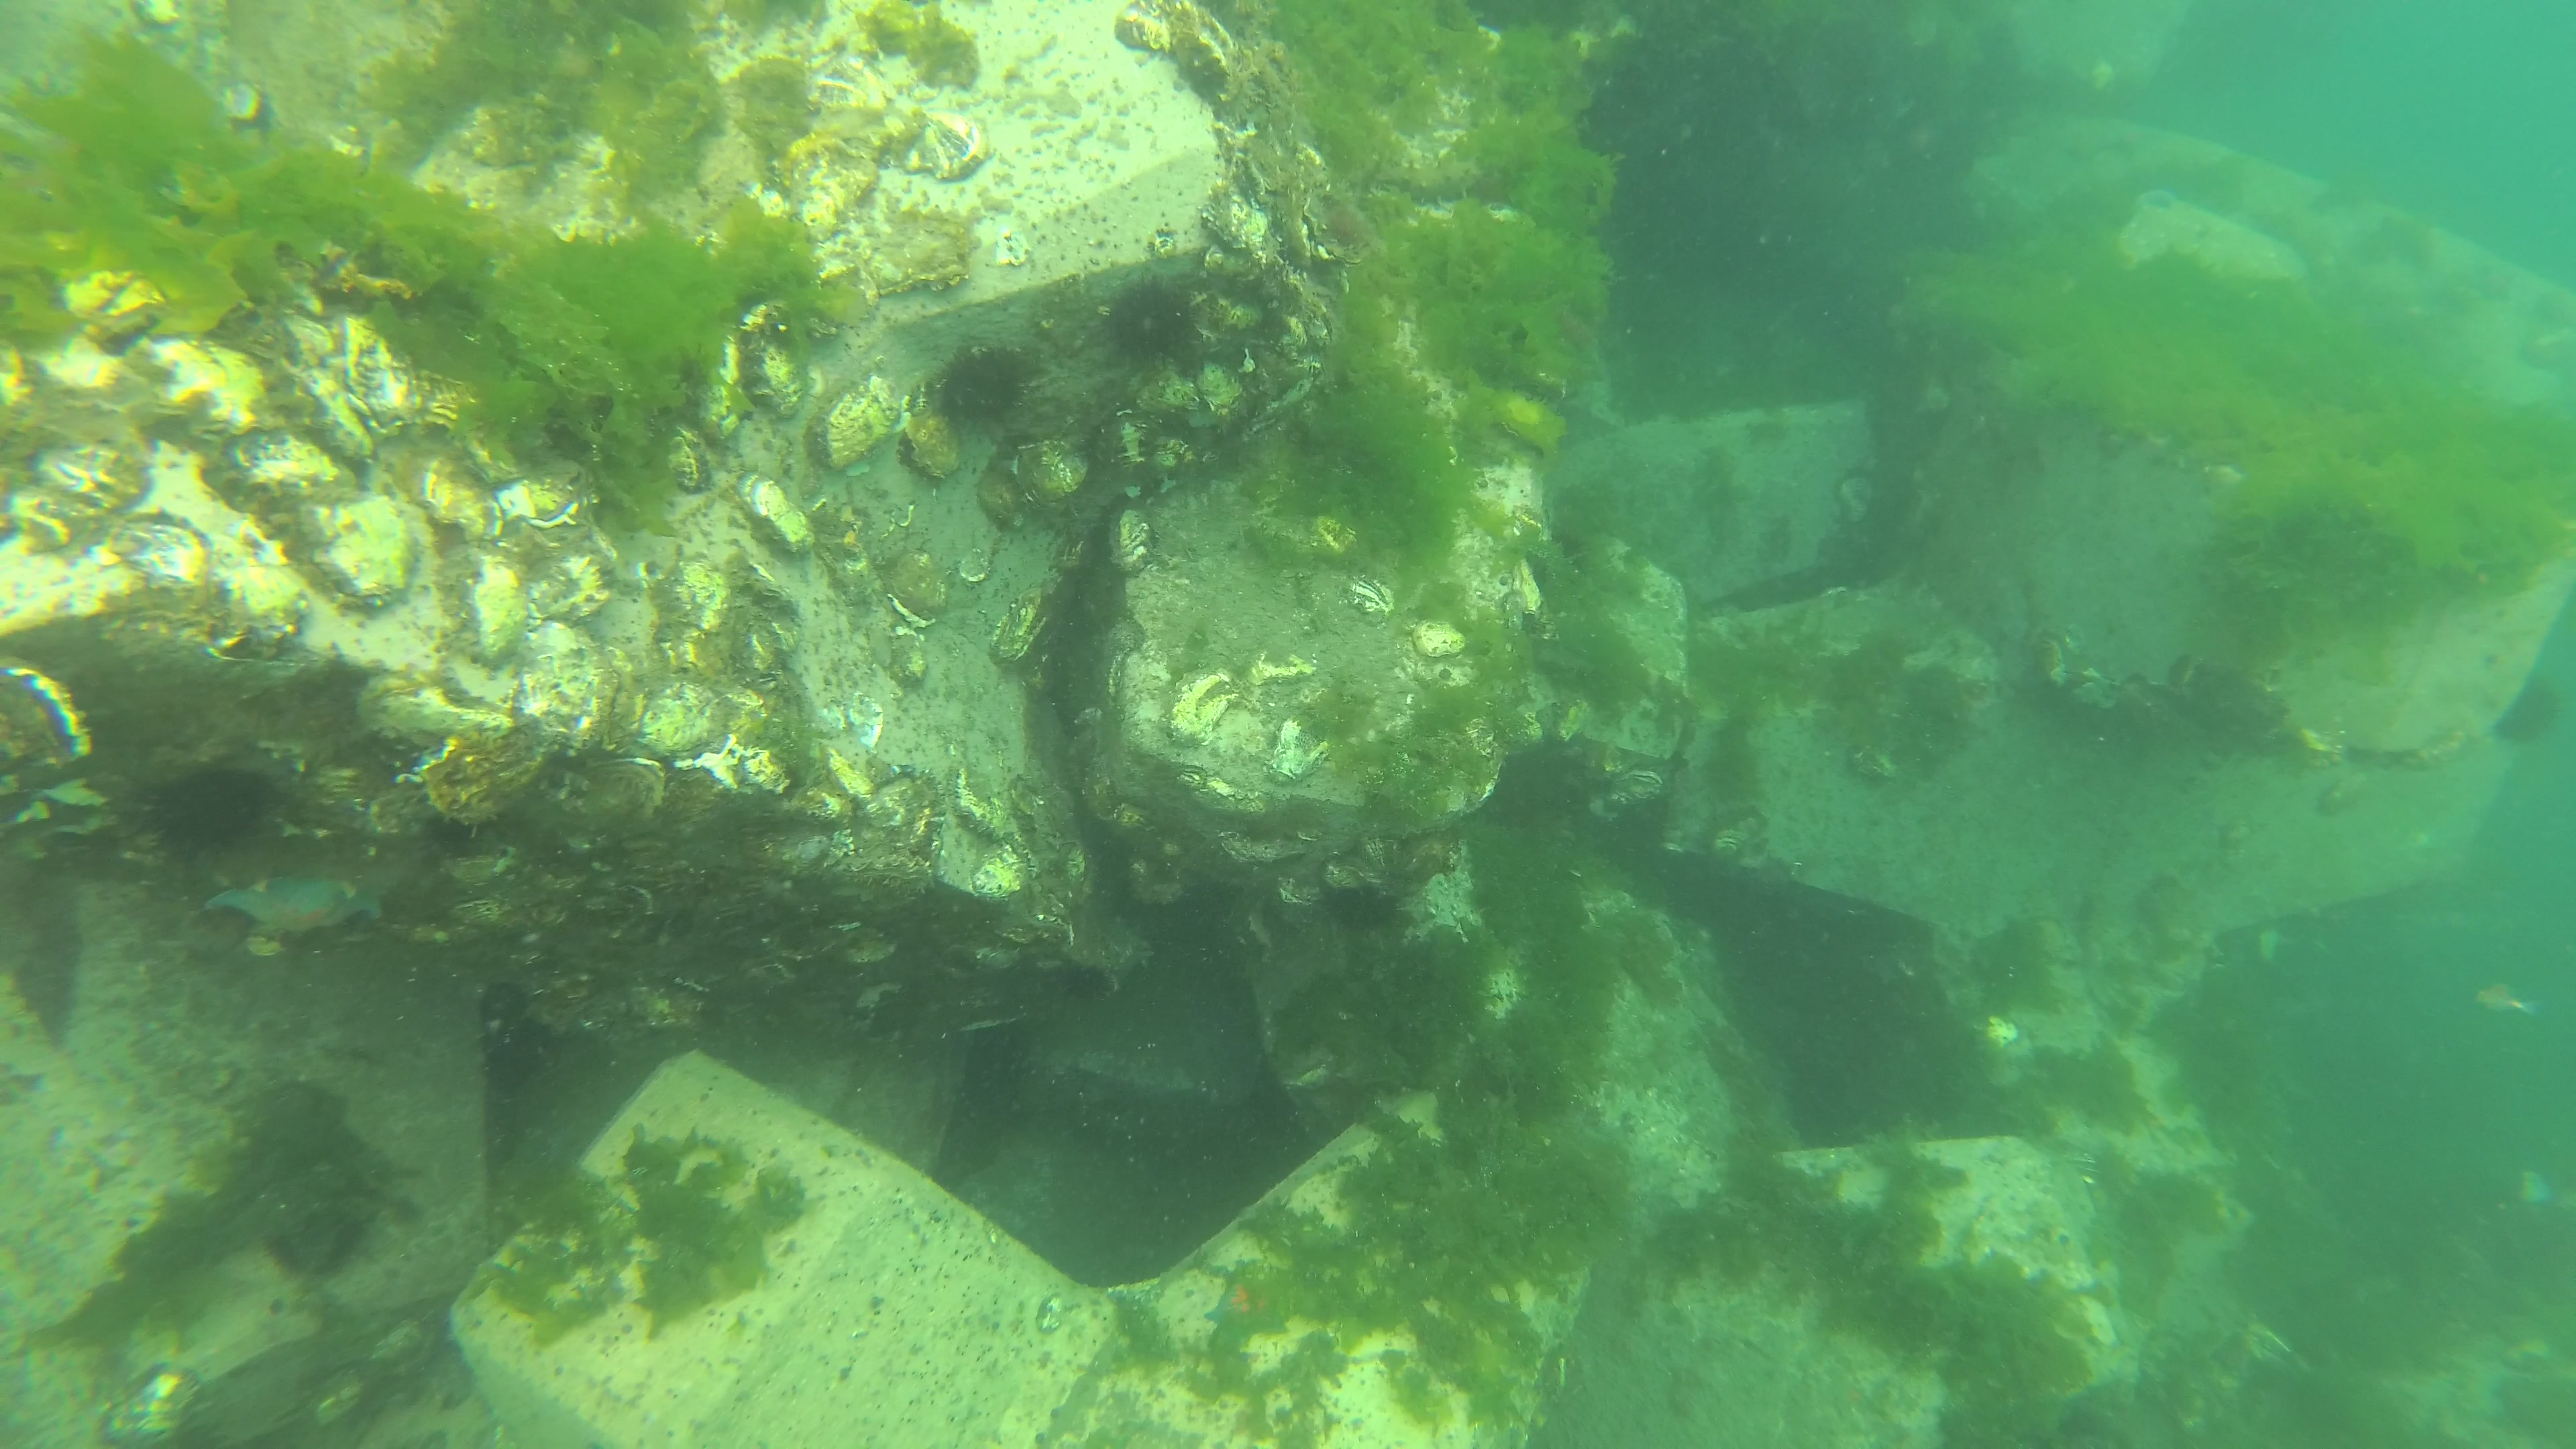echinus: (127, 763, 287, 867), (1108, 269, 1194, 364), (932, 343, 1033, 425), (262, 1208, 363, 1283), (2493, 672, 2562, 747), (1327, 883, 1403, 938), (418, 810, 501, 858), (1060, 964, 1116, 1005), (1548, 529, 1589, 575)
starfish: (195, 878, 389, 938)
